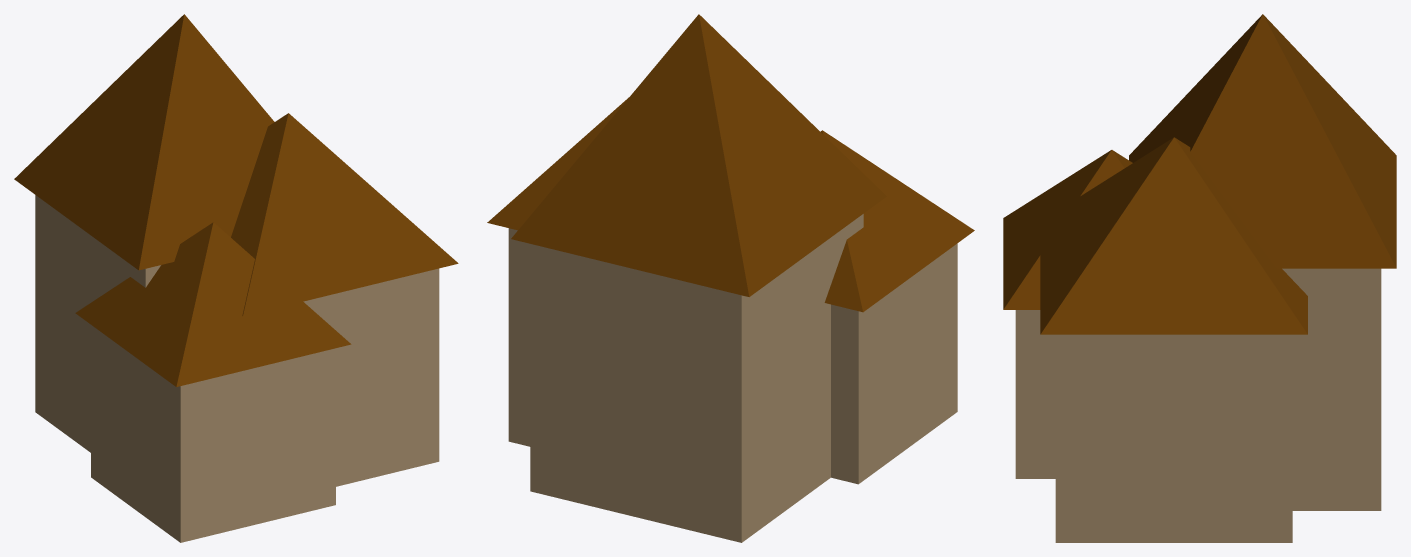
The model's file is ville_nonFortifié.fbx.
The picture shows the model from 3 angles, left to right: view 1: azimuth 30°, elevation 25°; view 2: azimuth 150°, elevation 25°; view 3: azimuth 270°, elevation 25°; orthographic projection. The views are drawn at different scales.
Parts seen in each view (by area): view 1: pPyramid1 (×3), pCube1 (×3); view 2: pCube1 (×3), pPyramid1 (×3); view 3: pPyramid1 (×3), pCube1 (×3).
Part boxes in pixels (x1,y1,x2,y2): pPyramid1 (×3): [14, 14, 458, 386]; pCube1 (×3): [35, 195, 439, 542]; pCube1 (×3): [508, 214, 957, 542]; pPyramid1 (×3): [487, 14, 974, 312]; pPyramid1 (×3): [1003, 14, 1396, 334]; pCube1 (×3): [1015, 268, 1381, 542].
Bounding box in the file's own units: 3.83 × 5.08 × 4.06.
